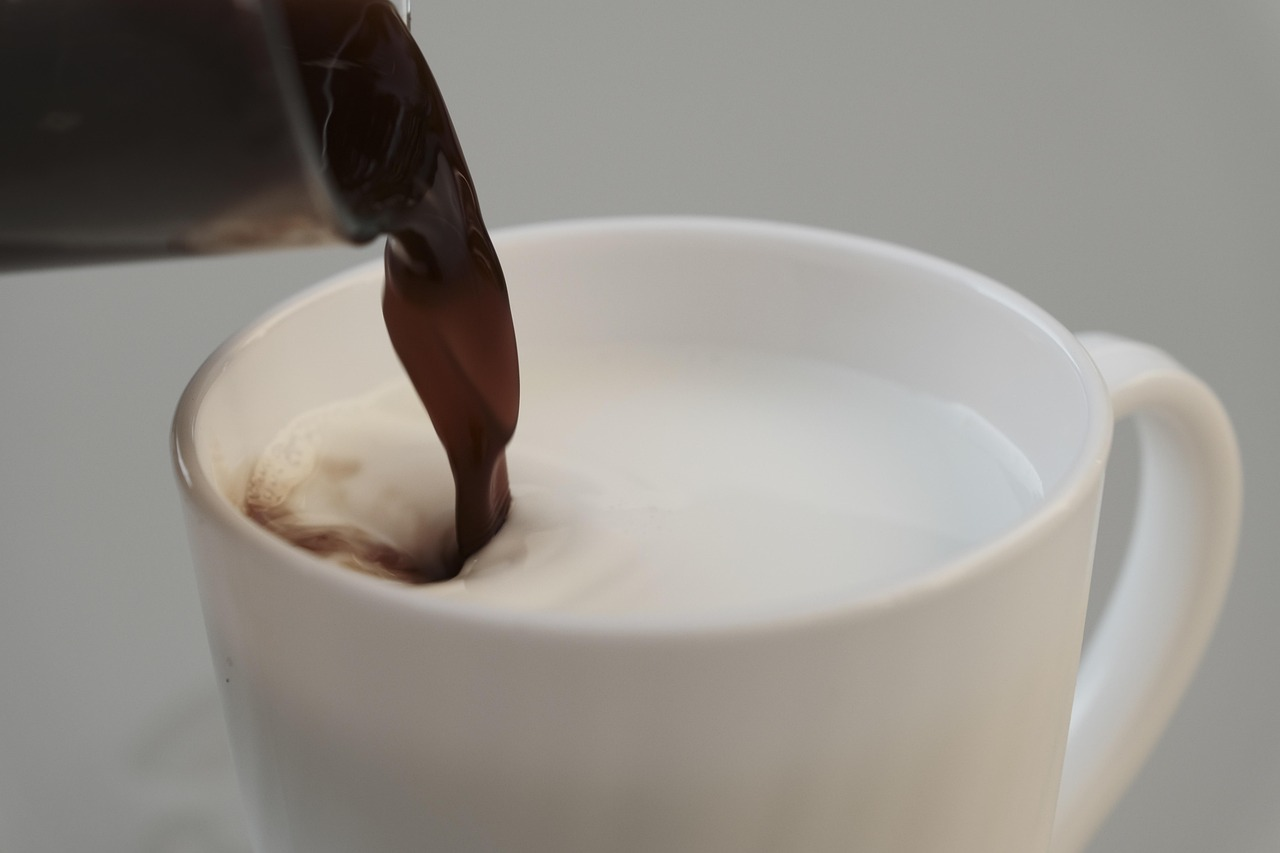mug: (146, 186, 1250, 842)
